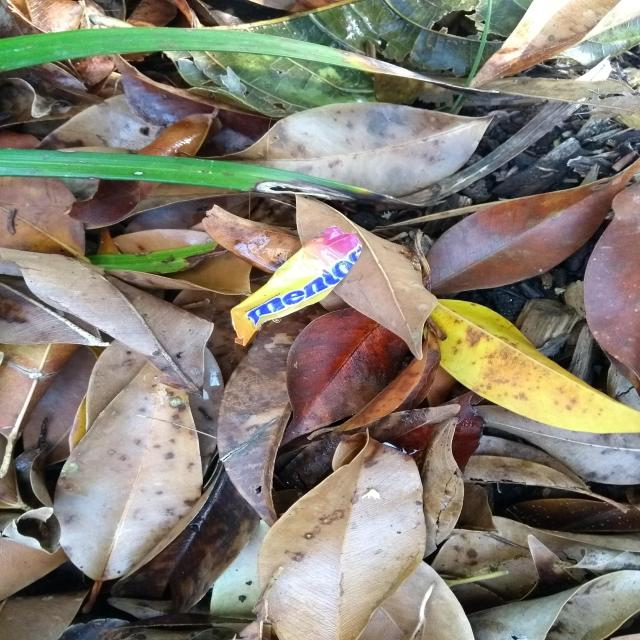litter: (229, 225, 368, 347)
